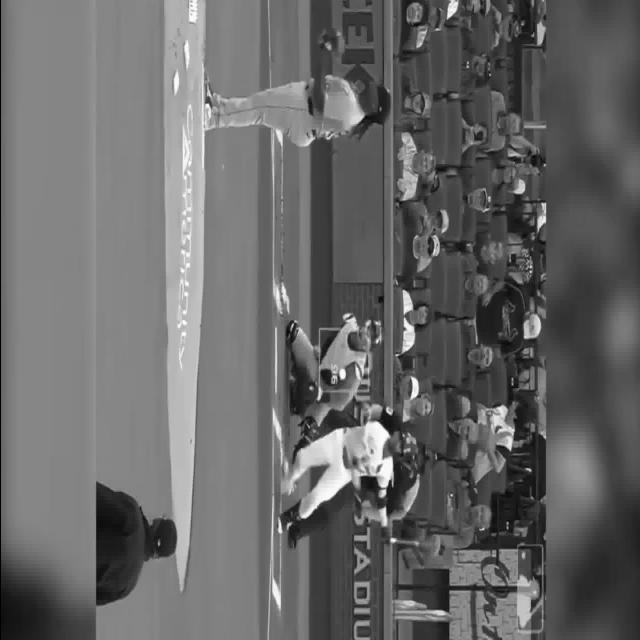baseball_glove: (292, 367, 320, 415), (316, 29, 346, 58)
bat: (382, 532, 420, 550)
shoe: (200, 77, 216, 133), (278, 456, 292, 497), (276, 514, 292, 532)
